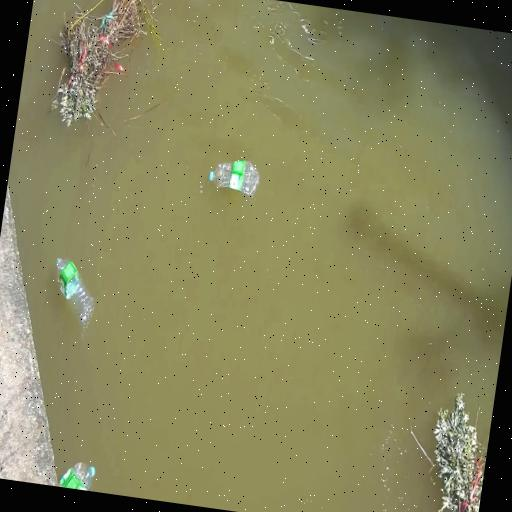plastic: (56, 258, 93, 325), (208, 160, 258, 197), (59, 462, 94, 490), (208, 171, 213, 181)
twig: (51, 0, 162, 127), (434, 394, 483, 512)
